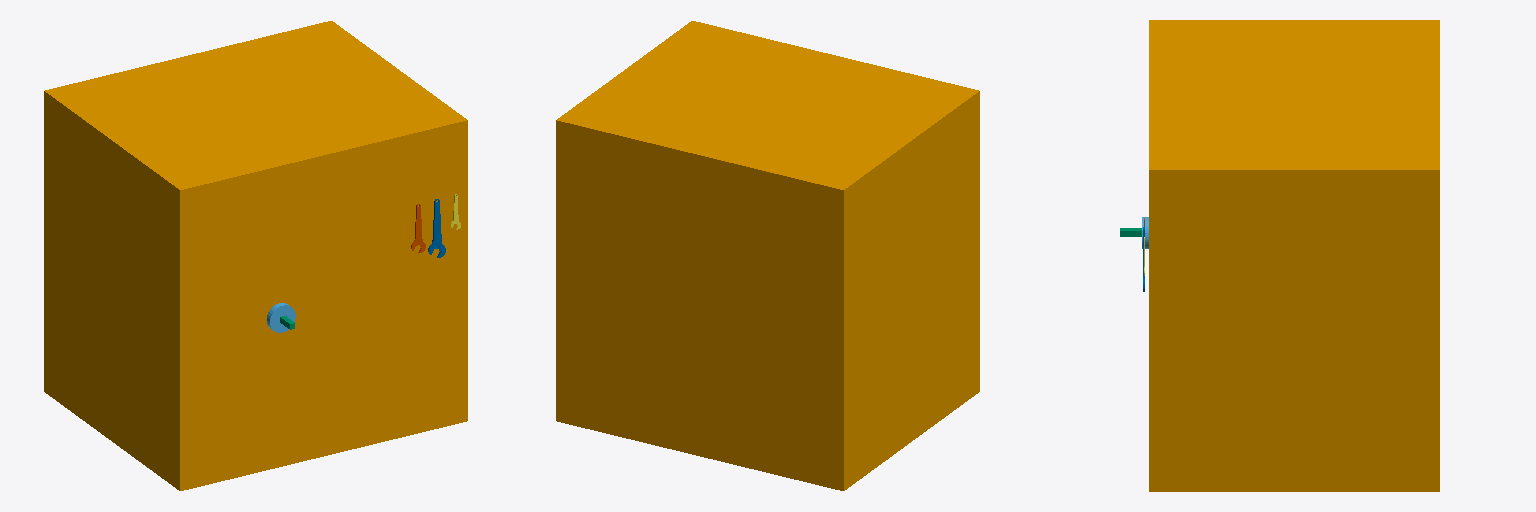
robot.urdf — MBZIRC_box:
<robot name="MBZIRC_box">
  <!-- Base link -->
  <link name="box">
    <visual>
      <origin xyz="0 0 0" rpy="0 0 0" />
      <geometry>
          <box size="1 0.82 1"/>
      </geometry>
    </visual>
    
	<collision>
		<origin xyz="0 0 0" rpy="0 0 0" />
		<geometry>
			<box size="1 0.82 1"/>
		</geometry>
	</collision>

	<inertial>
		<mass value="1.0" />
		<inertia ixx="1.0" ixy="0.0" ixz="0.0"
				iyy="1.0" iyz="0.0"
				izz="1.0" />
	</inertial>
  </link>
  
  <joint name="fixed_joint_1" type="fixed">
      <parent link="box" />
      <child link = "cyl_handle" />
      <origin xyz="-0.155 -0.42 0.0" rpy="0.0 0.0 0.0 " />
  </joint>
  
  <link name="cyl_handle">
    <visual>
      <origin xyz="0 0 0" rpy="1.5708 0 0" />
      <geometry>
          <cylinder length="0.02" radius="0.045" />
      </geometry>
    </visual>
    
	<collision>
		<origin xyz="0 0 0" rpy="1.5708 0 0" />
		<geometry>
			<cylinder length="0.02" radius="0.045" />
		</geometry>
	</collision>

	<inertial>
		<mass value="0.01" />
		<inertia ixx="0.01" ixy="0.0" ixz="0.0"
				iyy="0.01" iyz="0.0"
				izz="0.01" />
	</inertial>
  </link>
  
  <joint name="fixed_joint_2" type="fixed">
      <parent link="cyl_handle" />
      <child link = "box_handle" />
      <origin xyz="0.0 -0.04 0.0" rpy="0.0 0.0 0.0 " />
  </joint>
  
  <link name="box_handle">
    <visual>
      <origin xyz="0 0 0" rpy="0 0 0" />
      <geometry>
          <box size="0.0185 0.06 0.0185"/>
      </geometry>
    </visual>
    
	<collision>
		<origin xyz="0 0 0" rpy="0 0 0" />
		<geometry>
			<box size="0.0185 0.06 0.0185"/>
		</geometry>
	</collision>

	<inertial>
		<mass value="0.01" />
		<inertia ixx="0.01" ixy="0.0" ixz="0.0"
				iyy="0.01" iyz="0.0"
				izz="0.01" />
	</inertial>
  </link>
  
  <joint name="fixed_joint_3" type="fixed">
      <parent link="box" />
      <child link = "wrench_1" />
      <origin xyz="0.4 -0.42 0.3" rpy="0.0 0.0 0.0 " />
  </joint>  

    <link name="wrench_1" >
      <visual>
		<origin xyz="0 0 0" rpy="1.5708 1.5708 0" />
        <geometry>
          <mesh filename="package://ur_gazebo/models/llave12.dae" />
        </geometry>
      </visual>
      <collision>
		<origin xyz="0 0 0" rpy="1.5708 1.5708 0" />
		<geometry>
			<cylinder length="0.12" radius="0.01" />
		</geometry>
      </collision>
	  <inertial>
		<mass value="0.01" />
		<inertia ixx="0.01" ixy="0.0" ixz="0.0"
				iyy="0.01" iyz="0.0"
				izz="0.01" />
	  </inertial>
    </link>
    
  <joint name="fixed_joint_4" type="fixed">
      <parent link="box" />
      <child link = "wrench_2" />
      <origin xyz="0.3 -0.42 0.32" rpy="0.0 0.0 0.0 " />
  </joint>  

    <link name="wrench_2" >
      <visual>
		<origin xyz="0 0 0" rpy="1.5708 1.5708 0" />
        <geometry>
          <mesh filename="package://ur_gazebo/models/llave19.stl" />
        </geometry>
      </visual>
      <collision>
		<origin xyz="0 0 0" rpy="1.5708 1.5708 0" />
		<geometry>
			<cylinder length="0.19" radius="0.01" />
		</geometry>
      </collision>
	  <inertial>
		<mass value="0.01" />
		<inertia ixx="0.01" ixy="0.0" ixz="0.0"
				iyy="0.01" iyz="0.0"
				izz="0.01" />
	  </inertial>
    </link>

  <joint name="fixed_joint_5" type="fixed">
      <parent link="box" />
      <child link = "wrench_3" />
      <origin xyz="0.25 -0.42 0.31" rpy="0.0 0.0 0.0 " />
  </joint>  

    <link name="wrench_3" >
      <visual>
		<origin xyz="0 0 0" rpy="1.5708 1.5708 0" />
        <geometry>
          <mesh filename="package://ur_gazebo/models/llave16.stl" />
        </geometry>
      </visual>
      <collision>
		<origin xyz="0 0 0" rpy="1.5708 1.5708 0" />
		<geometry>
			<cylinder length="0.16" radius="0.01" />
		</geometry>
      </collision>
	  <inertial>
		<mass value="0.01" />
		<inertia ixx="0.01" ixy="0.0" ixz="0.0"
				iyy="0.01" iyz="0.0"
				izz="0.01" />
	  </inertial>
    </link>
  
</robot>

--- Render facts (derived) ---
Views: 3 orthographic renders of the robot side by side, from view 1: azimuth 30°, elevation 25°; view 2: azimuth 150°, elevation 25°; view 3: azimuth 270°, elevation 25°.
Model MBZIRC_box with 6 links and 5 joints (5 fixed), rooted at box, posed every joint at zero.
Links seen in each view (by area): view 1: box, cyl_handle; view 2: box; view 3: box.
Link boxes in pixels (box(x1,y1,x2,y2)): box: box(44, 21, 467, 490); cyl_handle: box(267, 303, 295, 332); box: box(556, 21, 979, 490); box: box(1149, 20, 1439, 491).
Size in the robot's own frame: 1 by 0.9 by 1 metres.
Meshes: 3 distinct files referenced, 3 mesh visuals loaded (2 binary STL, 1 Collada DAE).